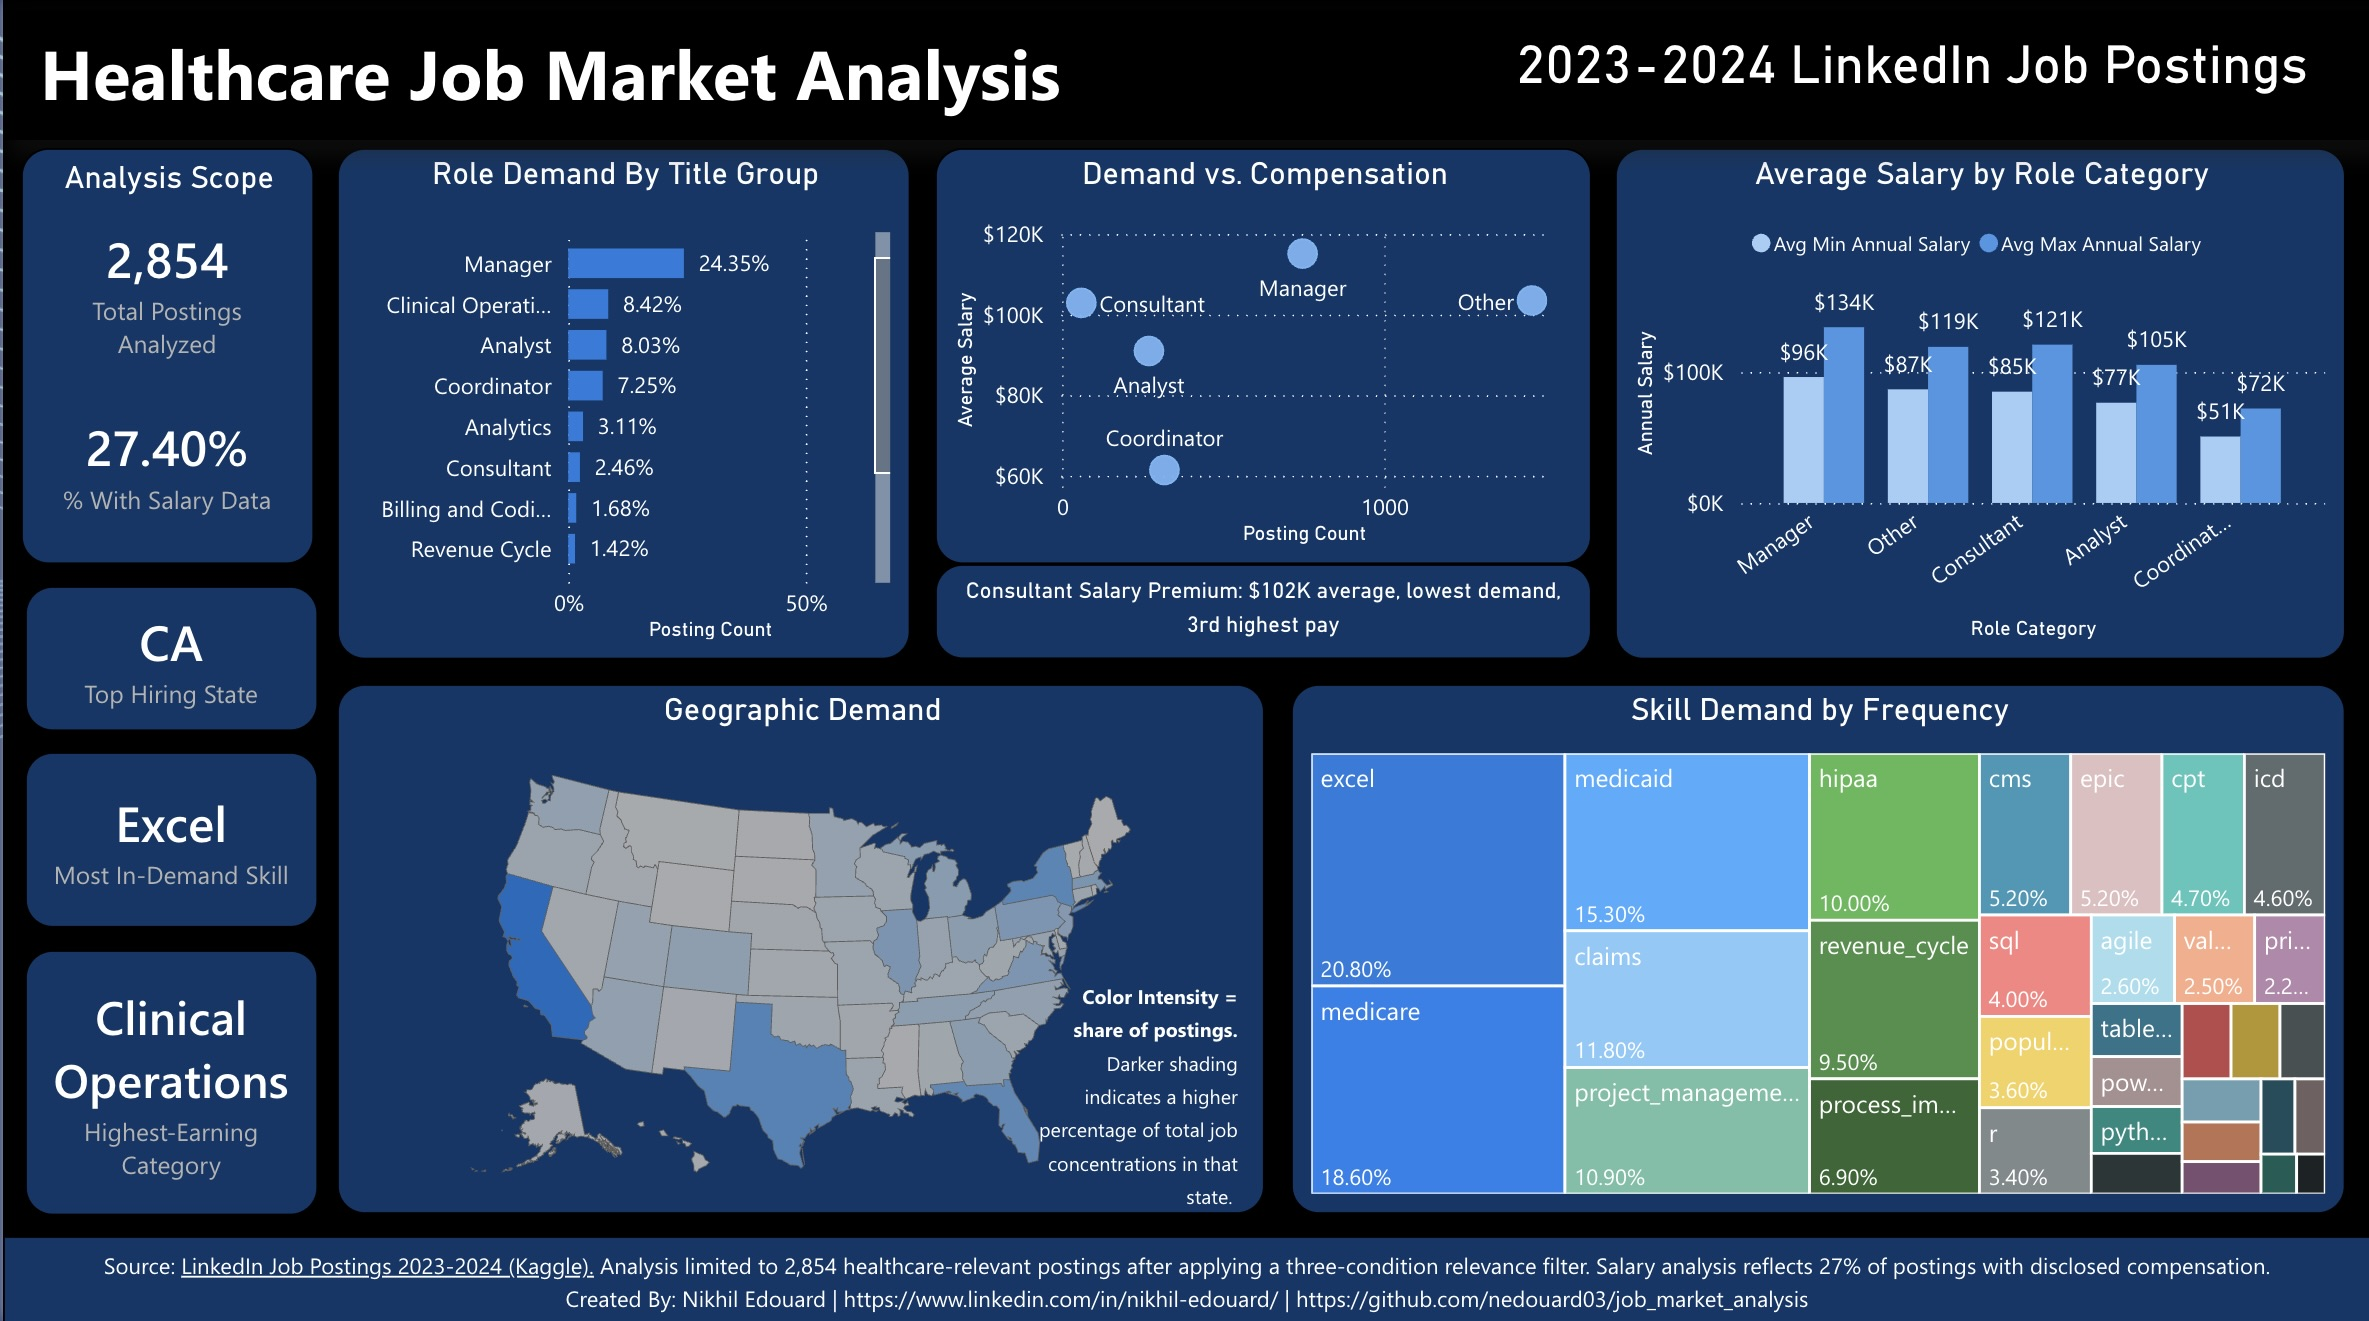

This screenshot's page, from the dashboard's own definition file:
{"tool":"powerbi","page":{"name":"Healthcare Job Market Analysis","canvas":[1280,720],"ordinal":0},"visuals":[{"type":"clusteredBarChart","title":"Role Demand By Title Group","fields":{"Category":["salary_by_title_subgroup.title_group"],"Y":["Sum(salary_by_title_subgroup.posting_count)"]},"box":[180,83.3,310,276.7],"z":0},{"type":"clusteredColumnChart","title":"Average Salary by Role Category","fields":{"Category":["salary_by_role_category.role_category"],"Y":["Sum(salary_by_role_category.Min Annual Salary)","Sum(salary_by_role_category.Max Annual Salary)"]},"box":[871.7,83.3,395,276.7],"z":1000},{"type":"shapeMap","title":"Geographic Demand","fields":{"Category":["role_demand_by_state.state"],"Value":["Sum(role_demand_by_state.posting_count)"]},"box":[180,373.3,501.7,286.7],"z":2000},{"type":"textbox","box":[0,8.3,1280,70],"z":3000},{"type":"treemap","title":"Skill Demand by Frequency","fields":{"Group":["skill_frequency_table.skill"],"Values":["Avg(skill_frequency_table.percent_of_postings)"]},"box":[696.7,373.3,570,286.7],"z":4000},{"type":"cardVisual","title":"Analysis Scope","fields":{"Data":["Sum(KPI_table.total_postings)","Sum(KPI_table (2).pct_with_salary)"]},"box":[10,83.3,158.3,225],"z":5000},{"type":"textbox","box":[0,671.7,1280,48.3],"z":6000},{"type":"scatterChart","title":"Demand vs. Compensation","fields":{"Category":["salary_vs_demand.role_category"],"X":["Sum(salary_vs_demand.posting_count)"],"Y":["Sum(salary_vs_demand.avg_mid_annual_salary)"]},"box":[503.3,83.3,355,225],"z":7000},{"type":"textbox","box":[503.3,308.3,355,51.7],"z":8000},{"type":"cardVisual","fields":{"Data":["Min(KPI_table (2).top_state)"]},"box":[11.7,320,158.3,78.3],"z":9000},{"type":"cardVisual","fields":{"Data":["Min(Table.Column1)"]},"box":[11.7,410,158.3,95],"z":10000},{"type":"cardVisual","fields":{"Data":["Min(Table (2).Column1)"]},"box":[11.7,516.7,158.3,143.3],"z":11000},{"type":"textbox","box":[813.3,16.7,453.3,53.3],"z":12000},{"type":"textbox","box":[554,526,126,146],"z":13000}]}

Visuals, with their boxes in screenshot pixels (x1, y1, x2, y2), scaled from the page's 1280x720 canvas onto the 2369x1321 screenshot:
"Role Demand By Title Group" clusteredBarChart: box(333, 153, 907, 660)
"Average Salary by Role Category" clusteredColumnChart: box(1613, 153, 2344, 660)
"Geographic Demand" shapeMap: box(333, 685, 1262, 1211)
textbox: box(0, 15, 2368, 144)
"Skill Demand by Frequency" treemap: box(1289, 685, 2344, 1211)
"Analysis Scope" cardVisual: box(19, 153, 311, 566)
textbox: box(0, 1232, 2368, 1320)
"Demand vs. Compensation" scatterChart: box(931, 153, 1589, 566)
textbox: box(931, 566, 1589, 660)
cardVisual - Min(KPI_table (2).top_state): box(22, 587, 315, 731)
cardVisual - Min(Table.Column1): box(22, 752, 315, 927)
cardVisual - Min(Table (2).Column1): box(22, 948, 315, 1211)
textbox: box(1505, 31, 2344, 128)
textbox: box(1025, 965, 1259, 1233)
